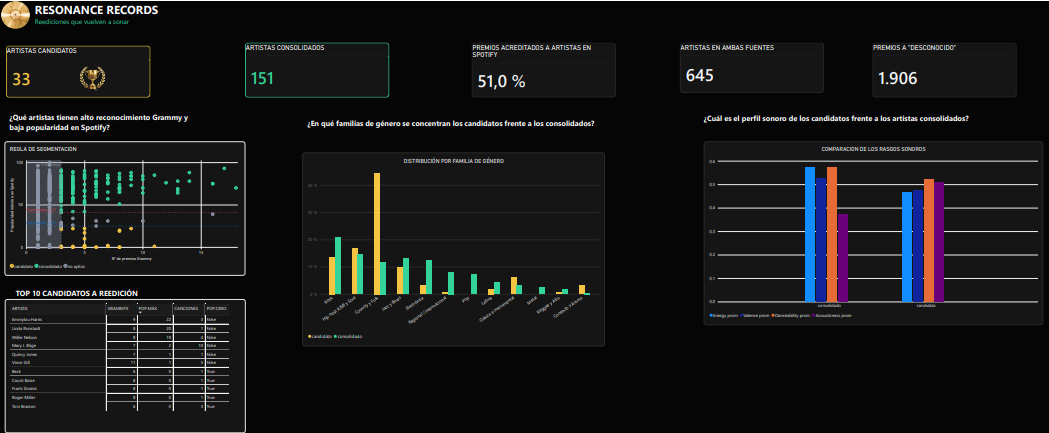

What the dashboard file says about the page in this screenshot:
{"tool":"powerbi","page":{"name":"Página 1","canvas":[3400,1400],"ordinal":0},"visuals":[{"type":"textbox","box":[112,0,450,60],"z":0},{"type":"image","box":[0,0,98,88],"z":1000},{"type":"textbox","box":[112.2,50,317.8,37.8],"z":2000},{"type":"cardVisual","title":"ARTISTAS CONSOLIDADOS","fields":{"Data":["dim_artist.Consolidados"]},"box":[795,135,465,175],"z":3000},{"type":"cardVisual","title":"ARTISTAS CANDIDATOS","fields":{"Data":["dim_artist.Candidatos"]},"box":[20,145,465,165],"z":3000,"group":"g1"},{"type":"cardVisual","title":"PREMIOS ACREDITADOS A ARTISTAS EN SPOTIFY","fields":{"Data":["fact_award.% premios con artista en Spotify"]},"box":[1530,135,465,175],"z":4000},{"type":"cardVisual","title":"ARTISTAS EN AMBAS FUENTES","fields":{"Data":["dim_artist.Artistas en ambas fuentes"]},"box":[2205,135,465,160],"z":5000},{"type":"cardVisual","title":"PREMIOS A \"DESCONOCIDO\"","fields":{"Data":["fact_award.Premios Desconocido"]},"box":[2830,135,465,175],"z":6000},{"type":"scatterChart","title":"REGLA DE SEGMENTACIÓN","fields":{"Category":["dim_artist.artist_name"],"Series":["dim_artist.segment"],"X":["Sum(dim_artist.total_awards)"],"Y":["Max(dim_artist.max_popularity)"]},"box":[14,453.6,780,434.4],"z":7000},{"type":"tableEx","fields":{"Values":["dim_artist.artist_name","Sum(dim_artist.total_awards)","Sum(dim_artist.max_popularity)","Sum(dim_artist.track_count)","dim_artist.popularity_zero"]},"box":[15,965,780,433.3],"z":8000},{"type":"group","id":"g1","title":"Grupo 1","box":[20,145,465,165],"z":9000},{"type":"image","box":[146,198.4,304.7,95.2],"z":9000,"group":"g1"},{"type":"textbox","box":[0,284.5,281,150],"z":10000},{"type":"textbox","box":[30,356.7,586.7,75],"z":11000},{"type":"textbox","box":[996,378,964,76],"z":12000},{"type":"clusteredColumnChart","title":"DISTRIBUCIÓN POR FAMILIA DE GÉNERO","fields":{"Category":["dim_genre.genre_family"],"Series":["dim_artist.segment"],"Y":["bridge_track_genre.% del segmento"]},"box":[980,490,980,626.7],"z":13000},{"type":"textbox","box":[2282,360,932,98],"z":14000},{"type":"clusteredColumnChart","title":"COMPARACIÓN DE LOS RASGOS SONOROS","fields":{"Category":["dim_artist.segment"],"Y":["fact_track.Energy prom","fact_track.Valence prom","fact_track.Danceability prom","fact_track.Acousticness prom"]},"box":[2282,454,1100,594],"z":15000},{"type":"textbox","box":[50,927.5,586.7,75],"z":15001}]}

Visuals, with their boxes in screenshot pixels (x1, y1, x2, y2), scaled from the page's 3400x1400 canvas onto the 1049x433 screenshot:
textbox: [35, 0, 173, 19]
image: [0, 0, 30, 27]
textbox: [35, 15, 133, 27]
"ARTISTAS CONSOLIDADOS" cardVisual: [245, 42, 389, 96]
"ARTISTAS CANDIDATOS" cardVisual: [6, 45, 150, 96]
"PREMIOS ACREDITADOS A ARTISTAS EN SPOTIFY" cardVisual: [472, 42, 616, 96]
"ARTISTAS EN AMBAS FUENTES" cardVisual: [680, 42, 824, 91]
"PREMIOS A "DESCONOCIDO"" cardVisual: [873, 42, 1017, 96]
"REGLA DE SEGMENTACIÓN" scatterChart: [4, 140, 245, 275]
tableEx - dim_artist.artist_name x Sum(dim_artist.total_awards): [5, 298, 245, 432]
"Grupo 1" group: [6, 45, 150, 96]
image: [45, 61, 139, 91]
textbox: [0, 88, 87, 134]
textbox: [9, 110, 190, 134]
textbox: [307, 117, 605, 140]
"DISTRIBUCIÓN POR FAMILIA DE GÉNERO" clusteredColumnChart: [302, 152, 605, 345]
textbox: [704, 111, 992, 142]
"COMPARACIÓN DE LOS RASGOS SONOROS" clusteredColumnChart: [704, 140, 1043, 324]
textbox: [15, 287, 196, 310]
